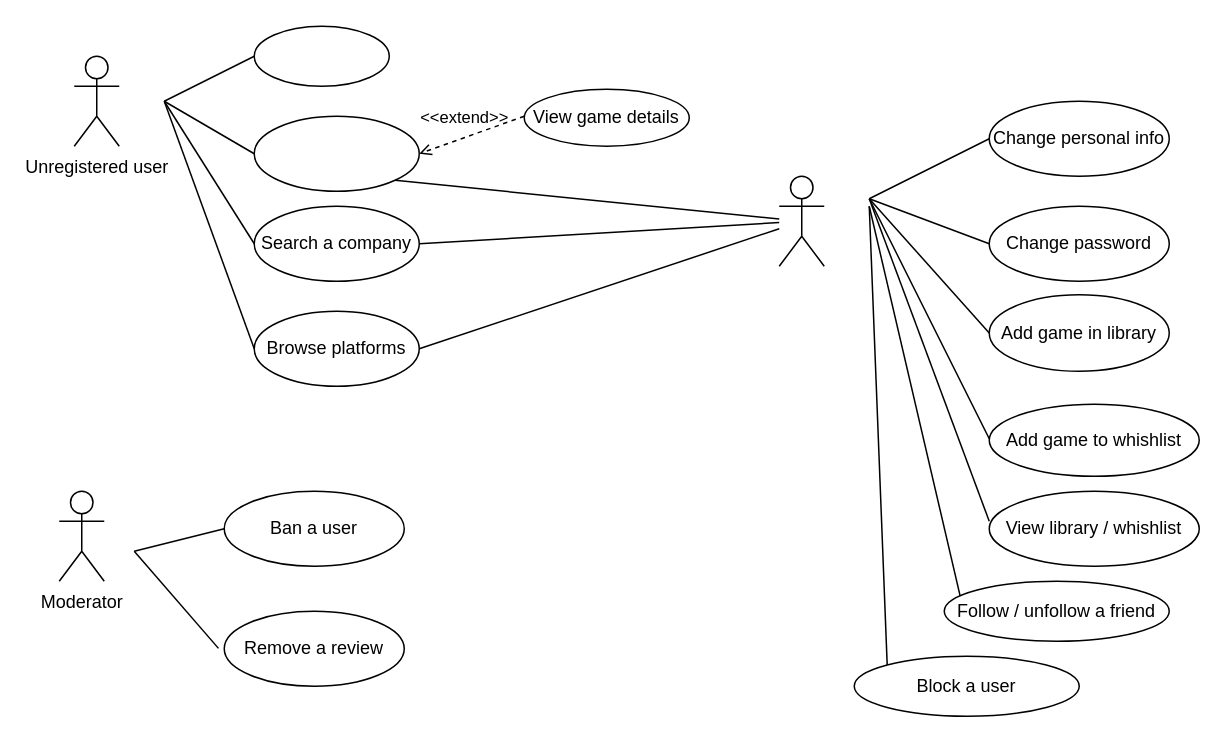
Some shapes in this 1226 by 743 pixel diagram are drawn without their labels. The box of each missing label's shape, as (x1, y1, x2, y2) in pixels:
Login to app: (253, 25, 389, 86)
Registered user: (778, 175, 824, 266)
Search a game: (253, 115, 419, 191)
